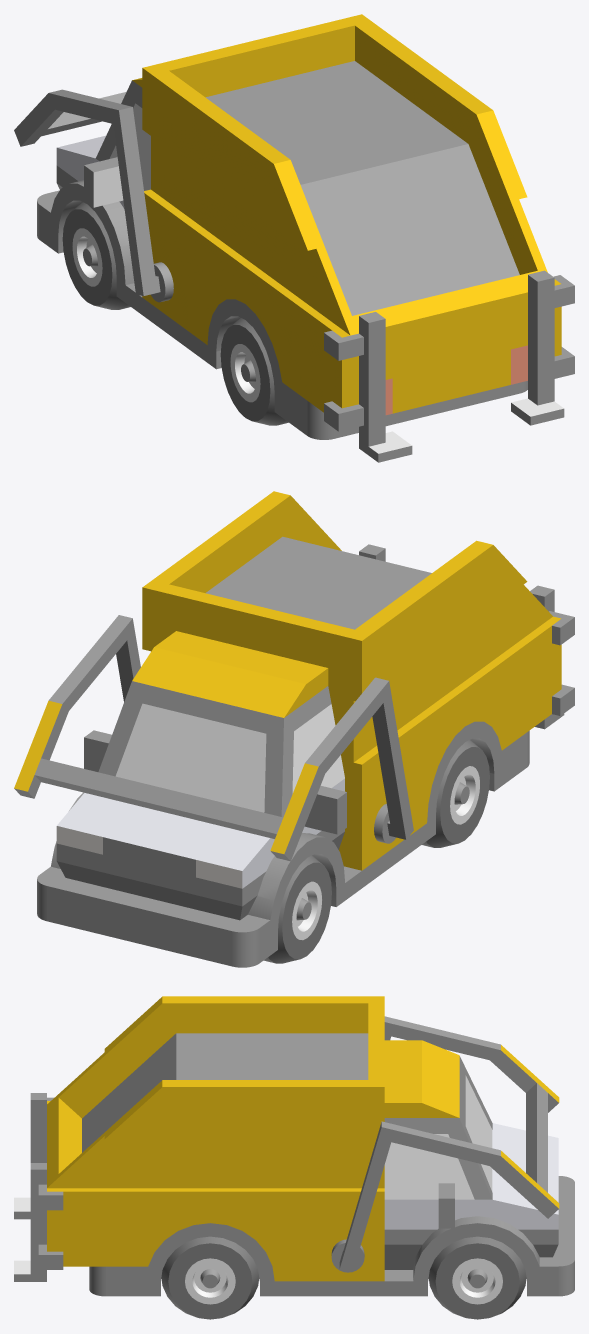
Rendered from garbageTruck.glb.
The picture shows the model from 3 angles, top to bottom: view 1: azimuth 30°, elevation 25°; view 2: azimuth 150°, elevation 25°; view 3: azimuth 270°, elevation 25°; orthographic projection. The views are drawn at different scales.
Parts seen in each view (by area): view 1: body, arm, wheel_backLeft, wheel_frontLeft; view 2: body, arm, wheel_frontLeft, wheel_backLeft; view 3: body, arm, wheel_backRight, wheel_frontRight.
Boxes of the visible parts, box(x1,y1,x2,y2) form: body: box(37, 14, 574, 462); arm: box(14, 89, 173, 302); wheel_backLeft: box(220, 317, 288, 425); wheel_frontLeft: box(62, 202, 130, 309); body: box(37, 491, 574, 967); arm: box(14, 615, 413, 861); wheel_frontLeft: box(264, 855, 331, 963); wheel_backLeft: box(422, 740, 489, 847); body: box(14, 996, 574, 1296); arm: box(331, 1016, 559, 1272); wheel_backRight: box(161, 1236, 259, 1319); wheel_frontRight: box(428, 1236, 526, 1319).
Size of the model in its own units: 1.6 by 1.6 by 3.4.
